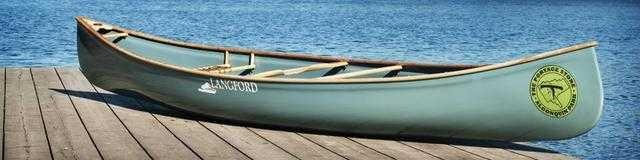kayak: (73, 15, 606, 145)
